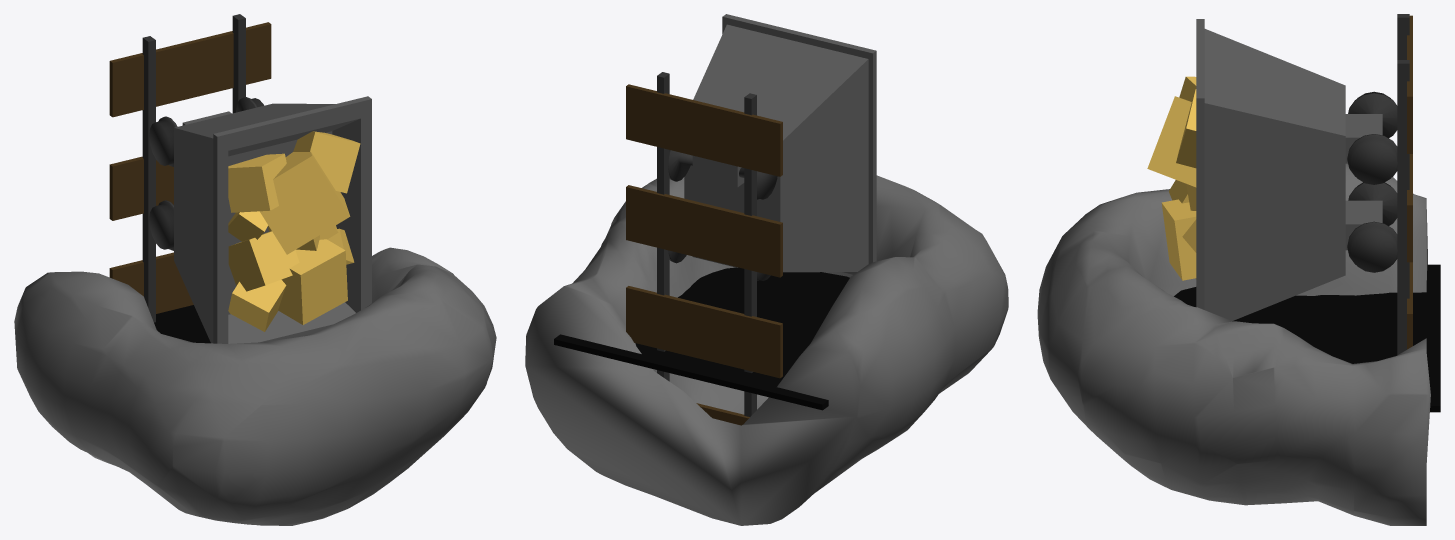
The model's file is gold.glb.
3 views of the same model, side by side, from view 1: azimuth 30°, elevation 25°; view 2: azimuth 150°, elevation 25°; view 3: azimuth 270°, elevation 25° (orthographic). The views are drawn at different scales.
Parts seen in each view (by area): view 1: Mball.011, Cube.010, gold, Cube.007, Cube.008, Cylinder.005, Cube.006; view 2: Mball.011, Cube.010, Cube.007, Cube.006, Cube.008, Cylinder.005; view 3: Mball.011, Cube.010, Cube.006, Cylinder.005, gold, Cube.008, Cube.007.
Boxes of the visible parts, left/top/right/bottom form: Mball.011: left=14, top=247, right=496, bottom=525; Cube.010: left=174, top=96, right=371, bottom=343; gold: left=228, top=131, right=360, bottom=331; Cube.007: left=109, top=22, right=271, bottom=313; Cube.008: left=142, top=14, right=245, bottom=322; Cylinder.005: left=149, top=97, right=263, bottom=250; Cube.006: left=154, top=305, right=210, bottom=343; Mball.011: left=525, top=175, right=1008, bottom=525; Cube.010: left=684, top=14, right=876, bottom=274; Cube.007: left=626, top=84, right=782, bottom=425; Cube.006: left=554, top=267, right=849, bottom=410; Cube.008: left=657, top=72, right=756, bottom=416; Cylinder.005: left=668, top=150, right=777, bottom=280; Mball.011: left=1037, top=163, right=1430, bottom=525; Cube.010: left=1196, top=19, right=1382, bottom=320; Cube.006: left=1174, top=264, right=1440, bottom=412; Cylinder.005: left=1347, top=91, right=1397, bottom=272; gold: left=1147, top=76, right=1196, bottom=280; Cube.008: left=1397, top=14, right=1409, bottom=355; Cube.007: left=1407, top=15, right=1412, bottom=349.
Bounding box in the file's own units: 0.974 × 1.07 × 0.8582.
